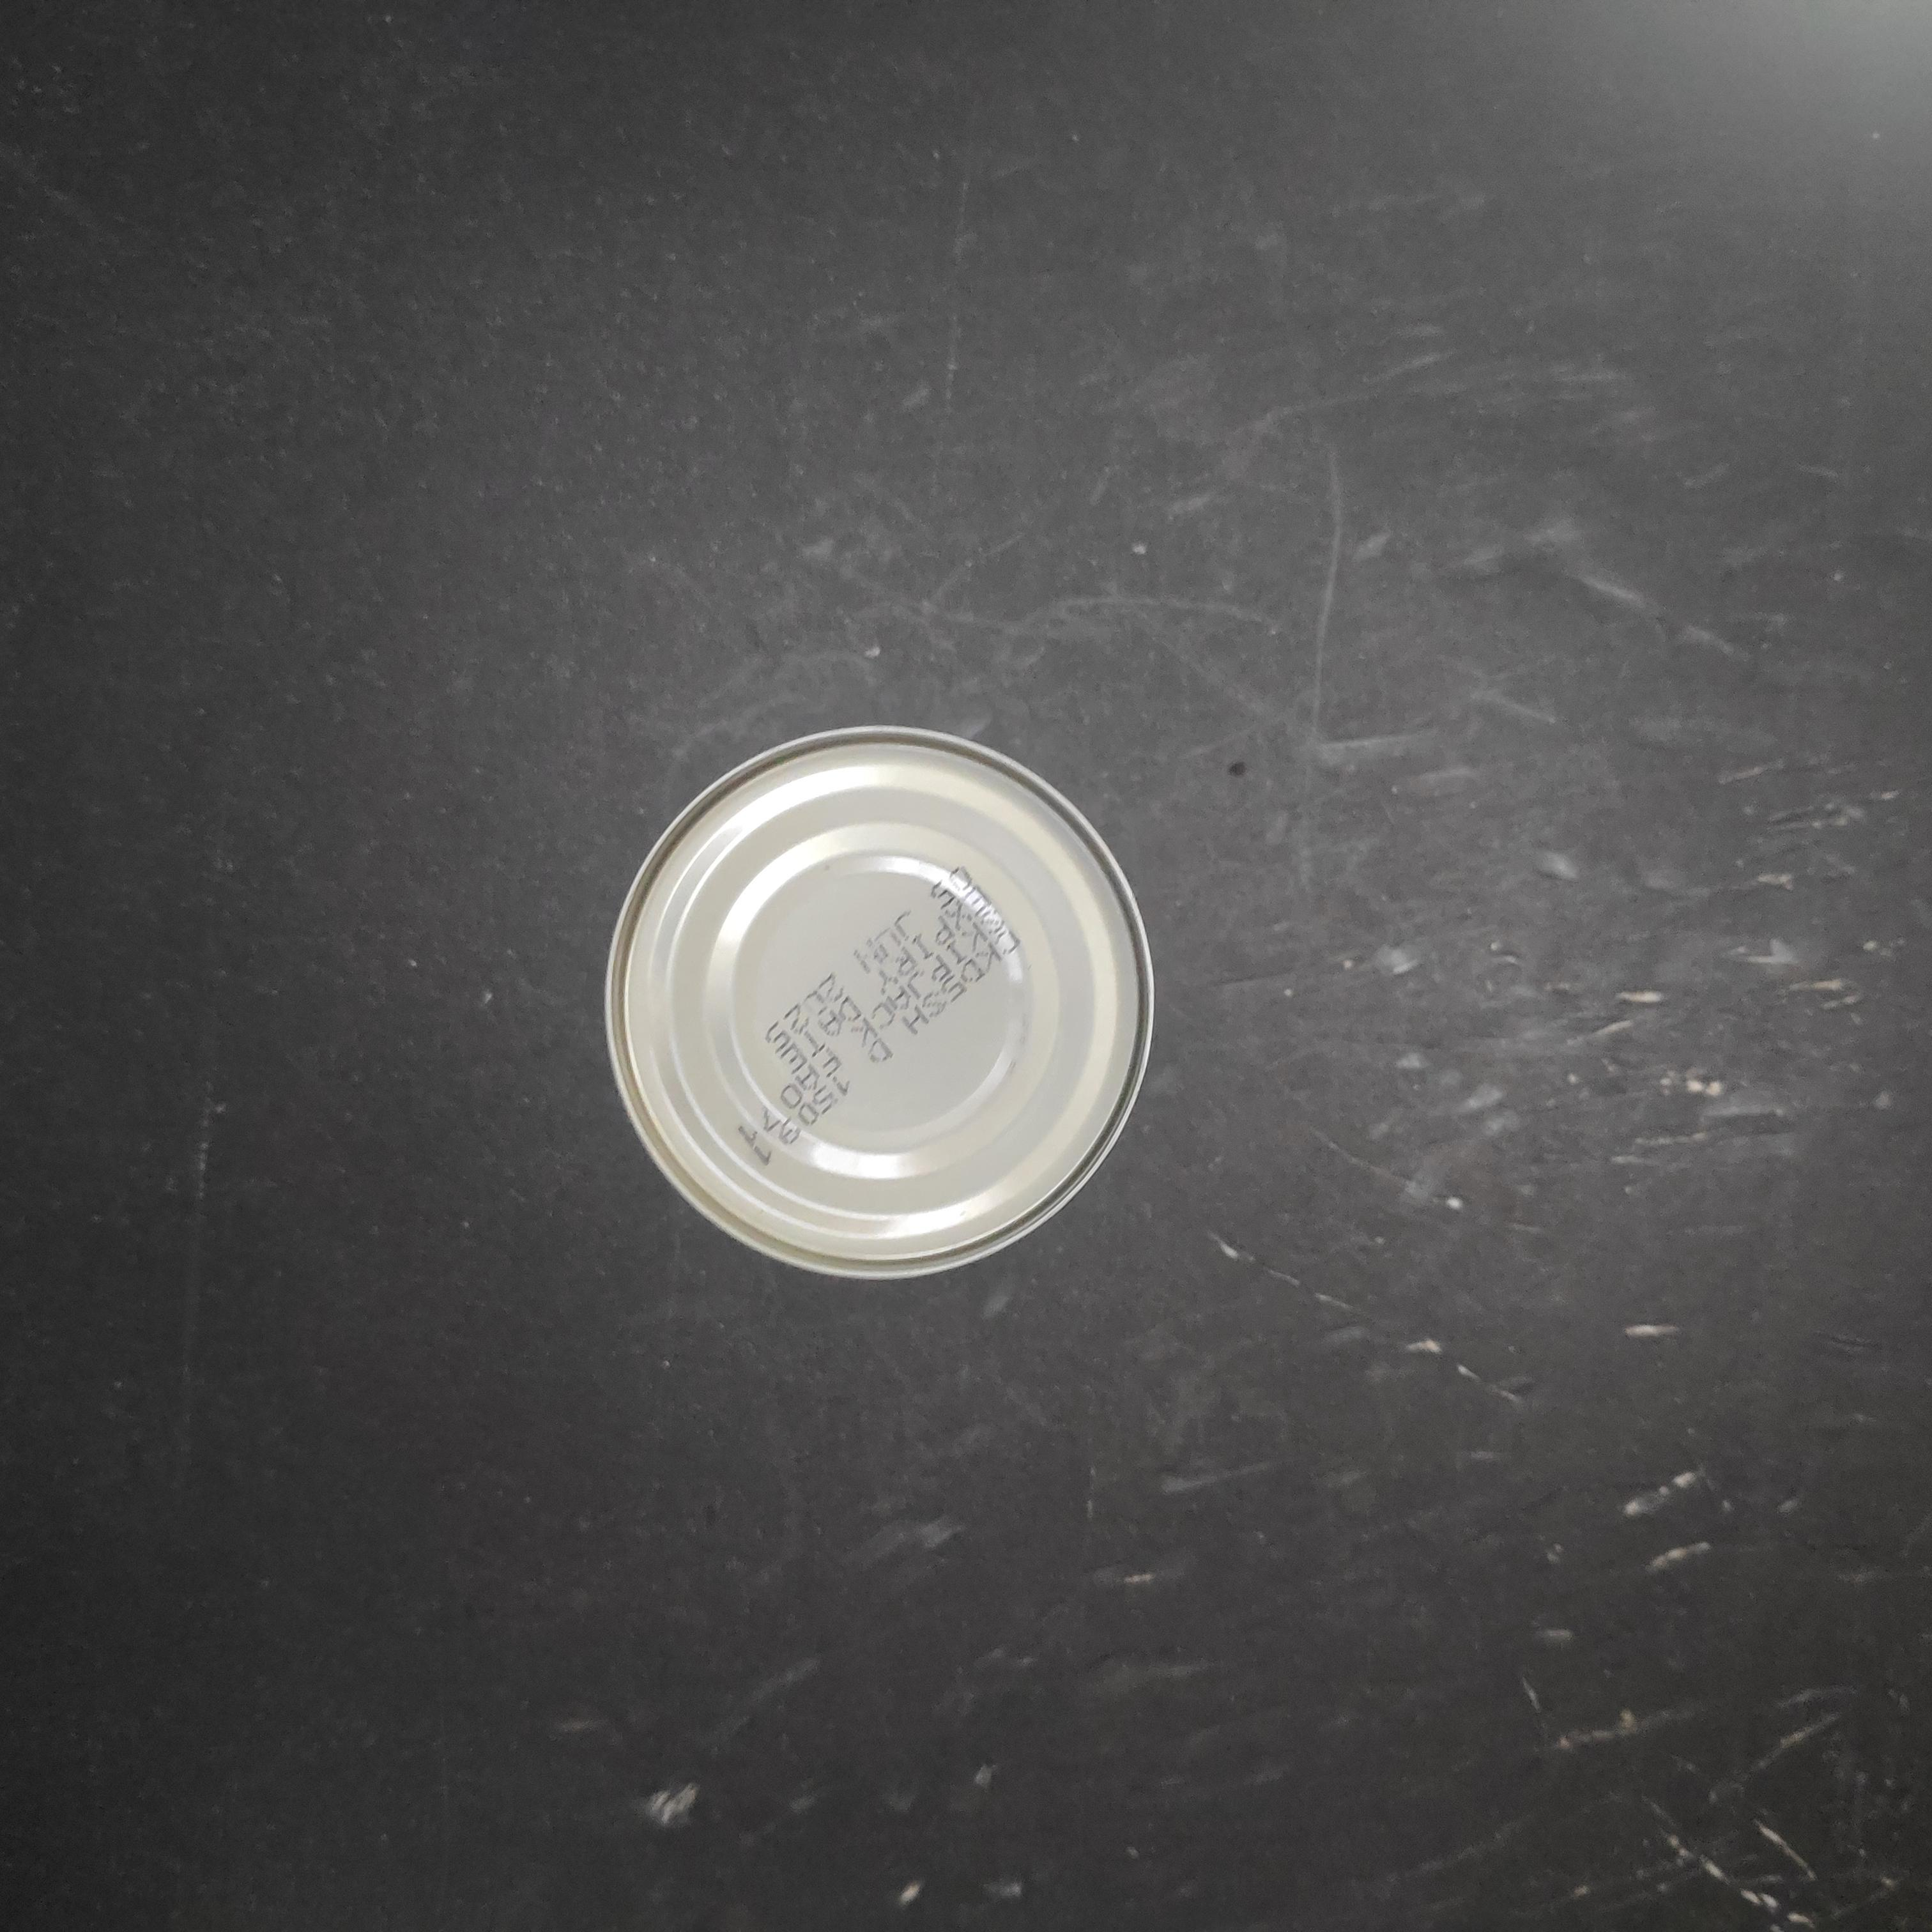No defect: (775, 649, 1330, 1210)
